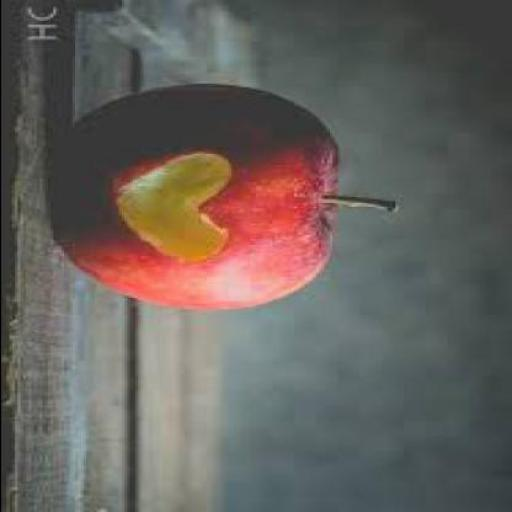biodegradable: (50, 85, 399, 311)
